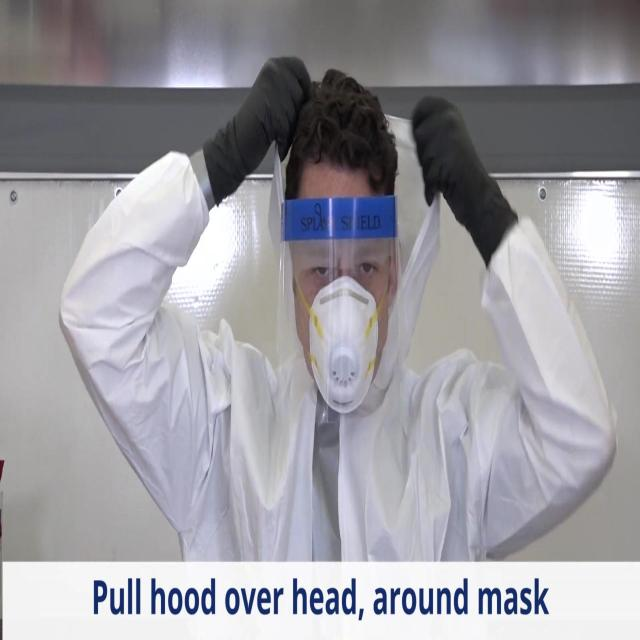Coverall: (59, 154, 617, 560)
Gloves: (410, 95, 517, 268), (202, 54, 312, 211)
Mask: (309, 275, 378, 416)
